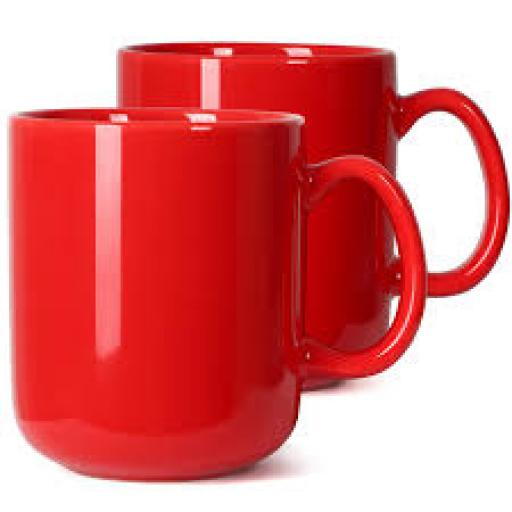red mug: (11, 107, 423, 478), (118, 43, 507, 294), (305, 182, 398, 350)
